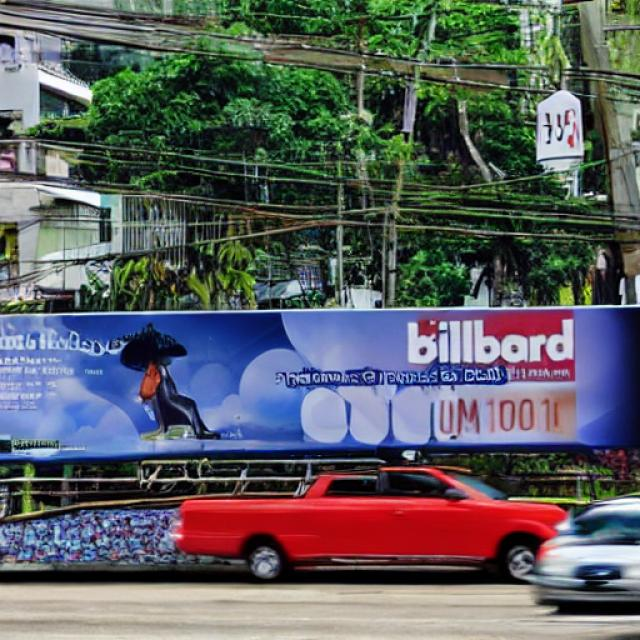Billboard: (0, 309, 638, 463)
